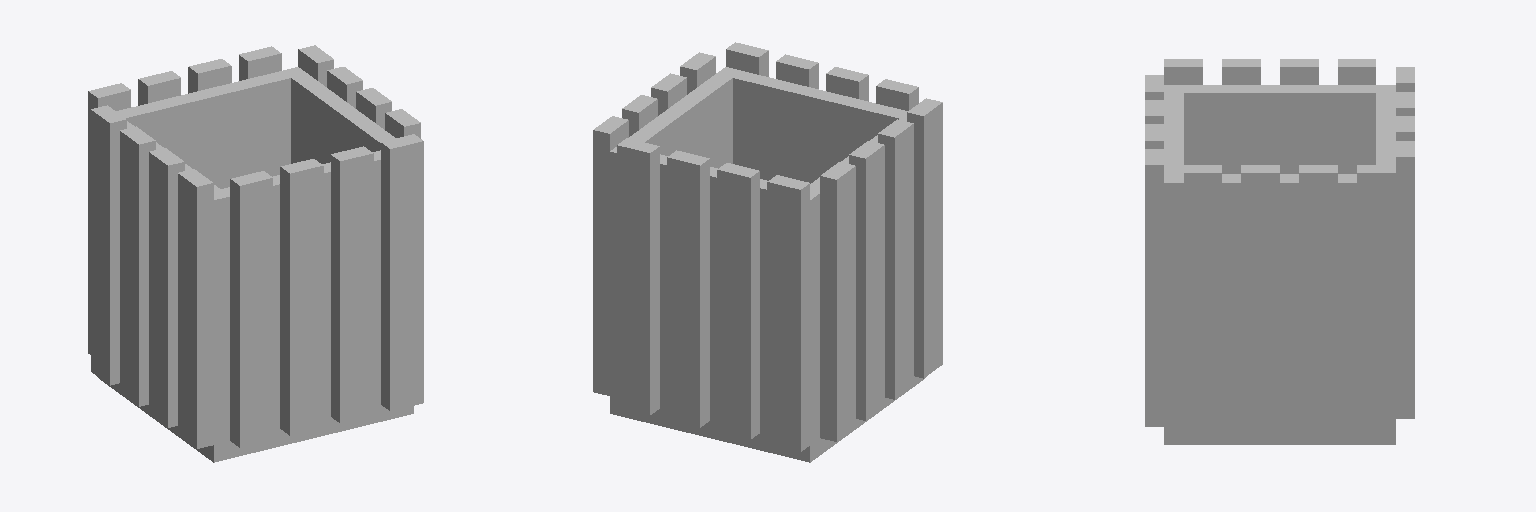
Rendered from 637_park_trash_can.obj.
3 views of the same model, side by side, from view 1: azimuth 30°, elevation 25°; view 2: azimuth 150°, elevation 25°; view 3: azimuth 270°, elevation 25° (orthographic).
Parts seen in each view (by area): view 1: Shape3, Shape7, Shape8, Shape9, Shape6, Shape21, Shape5, Shape19, Shape18, Shape20, Shape4, Shape1 (+8 smaller); view 2: Shape5, Shape15, Shape14, Shape17, Shape16, Shape18, Shape20, Shape21, Shape19, Shape3, Shape4, Shape13 (+9 smaller); view 3: Shape4, Shape2, Shape11, Shape12, Shape13, Shape10, Shape9, Shape14, Shape1, Shape5, Shape3, Shape19 (+3 smaller).
Boxes of the visible parts, x1,y1,x2,y2 form: Shape3: [116, 67, 307, 188]; Shape7: [280, 159, 323, 435]; Shape8: [331, 146, 373, 423]; Shape9: [381, 134, 423, 410]; Shape6: [230, 171, 272, 447]; Shape21: [178, 169, 213, 448]; Shape5: [214, 150, 380, 444]; Shape19: [120, 126, 155, 406]; Shape18: [91, 105, 126, 385]; Shape20: [149, 148, 184, 427]; Shape4: [291, 74, 395, 163]; Shape1: [98, 377, 413, 462]; Shape5: [733, 71, 907, 183]; Shape15: [667, 150, 709, 427]; Shape14: [617, 138, 659, 414]; Shape17: [767, 175, 809, 451]; Shape16: [717, 163, 759, 439]; Shape18: [820, 162, 855, 441]; Shape20: [878, 119, 913, 399]; Shape21: [907, 98, 942, 378]; Shape19: [849, 141, 884, 420]; Shape3: [610, 147, 767, 434]; Shape4: [628, 67, 740, 168]; Shape13: [593, 116, 628, 395]; Shape4: [1164, 174, 1356, 426]; Shape2: [1184, 85, 1395, 173]; Shape11: [1241, 165, 1279, 434]; Shape12: [1299, 165, 1337, 434]; Shape13: [1357, 165, 1395, 434]; Shape10: [1184, 165, 1221, 434]; Shape9: [1145, 149, 1163, 426]; Shape14: [1396, 141, 1414, 418]; Shape1: [1164, 427, 1395, 444]; Shape5: [1164, 85, 1183, 173]; Shape3: [1376, 93, 1395, 164]; Shape19: [1280, 59, 1318, 84].
Bounding box in the file's own units: 0.875 × 1 × 0.875.